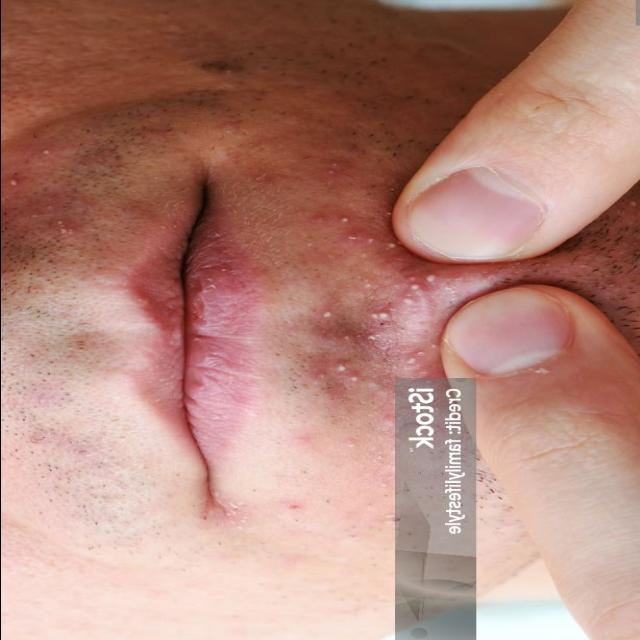whitehead: (298, 192, 457, 406), (1, 140, 77, 238)
